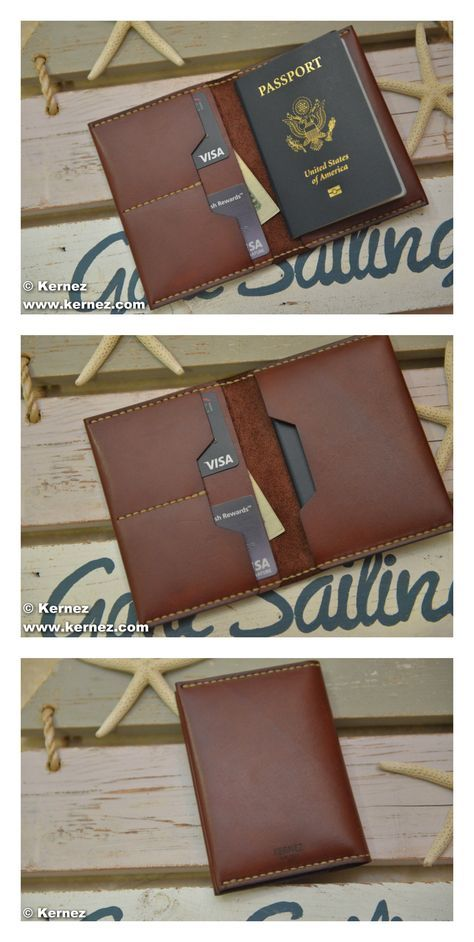cuero: (83, 26, 454, 900)
